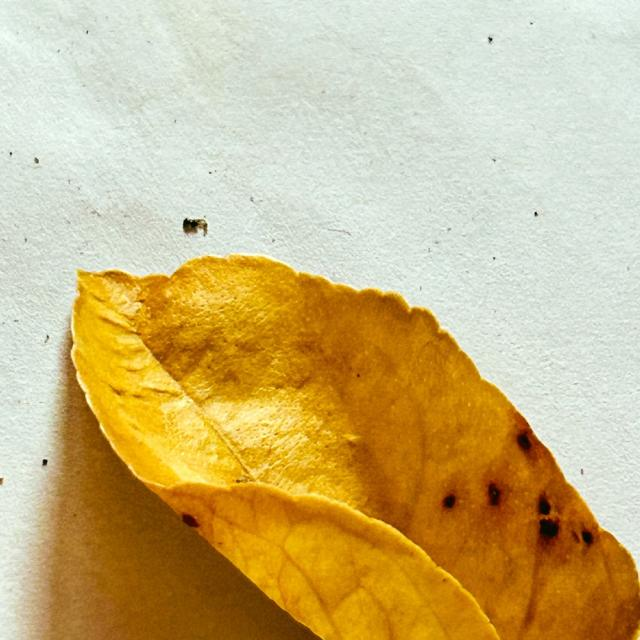DryLeaf_Lemon: (72, 255, 639, 639)
